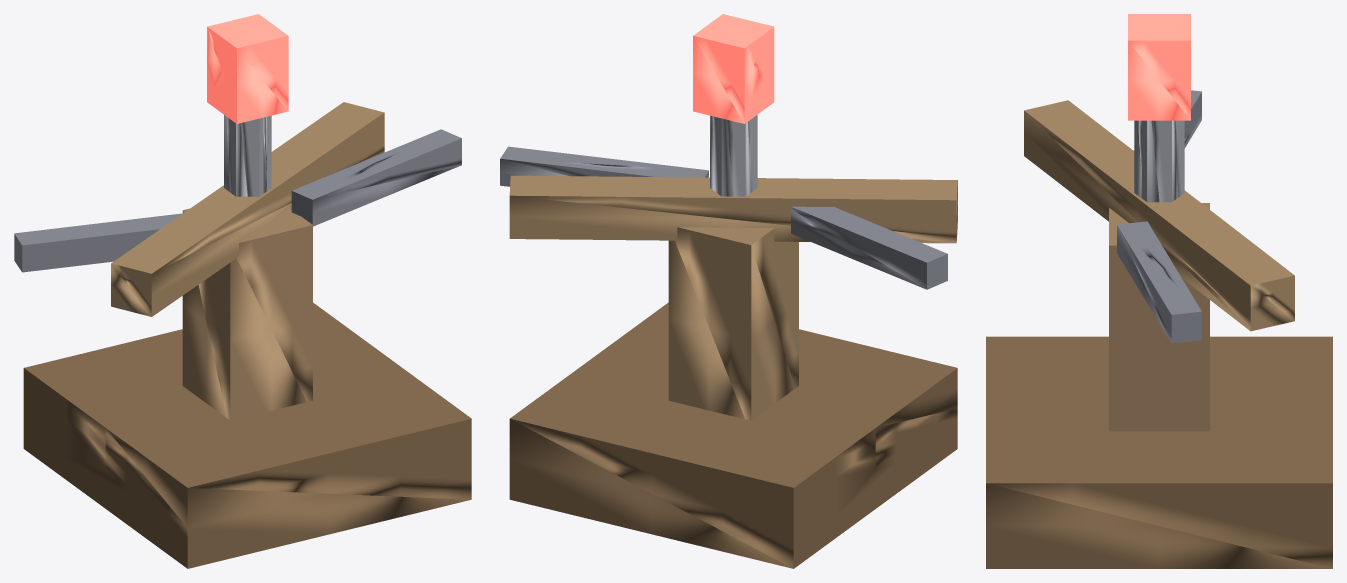
File: ballista.glb
3 renders of one model, left to right at view 1: azimuth 30°, elevation 25°; view 2: azimuth 150°, elevation 25°; view 3: azimuth 270°, elevation 25°, orthographic. The views are drawn at different scales.
Parts seen in each view (by area): view 1: BallistaBase; view 2: BallistaBase; view 3: BallistaBase.
Boxes of the visible parts, bbox=[...] form: BallistaBase: bbox=[14, 14, 471, 568]; BallistaBase: bbox=[500, 14, 957, 568]; BallistaBase: bbox=[986, 14, 1332, 568].
Size of the model in its own units: 1.7 by 1.64 by 1.1.
